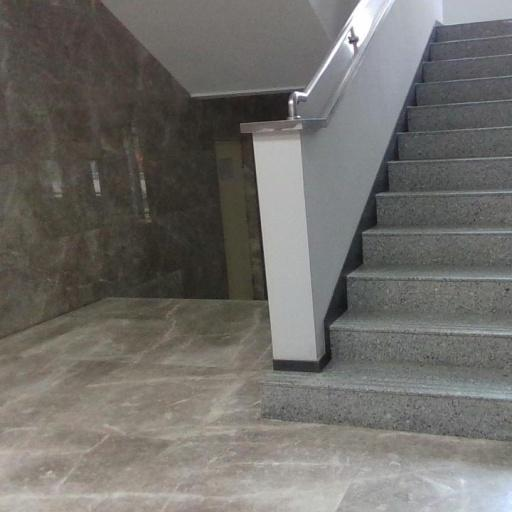stairs: (262, 21, 511, 439)
